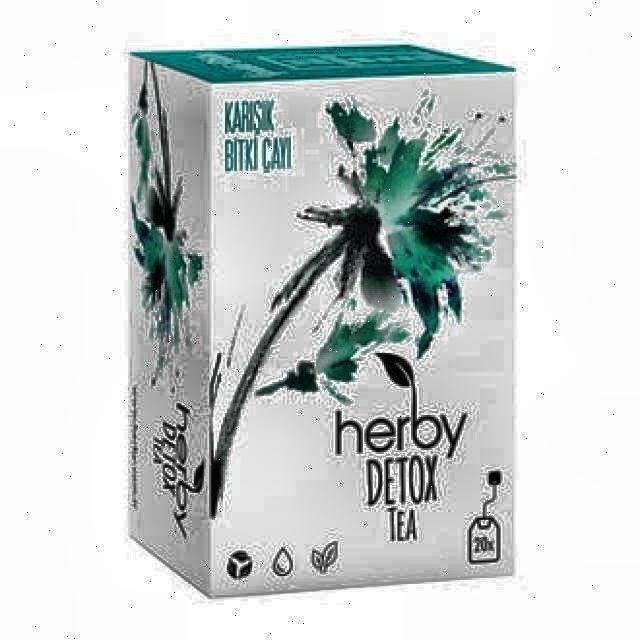cardboard: (125, 44, 518, 600)
